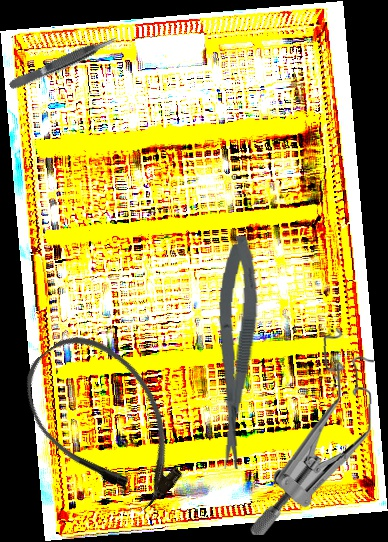Cannula: (4, 314, 207, 531)
Micro Scissor: (205, 234, 264, 471)
Speculum: (248, 326, 378, 538)
Tissue Forceps: (6, 32, 121, 92)
